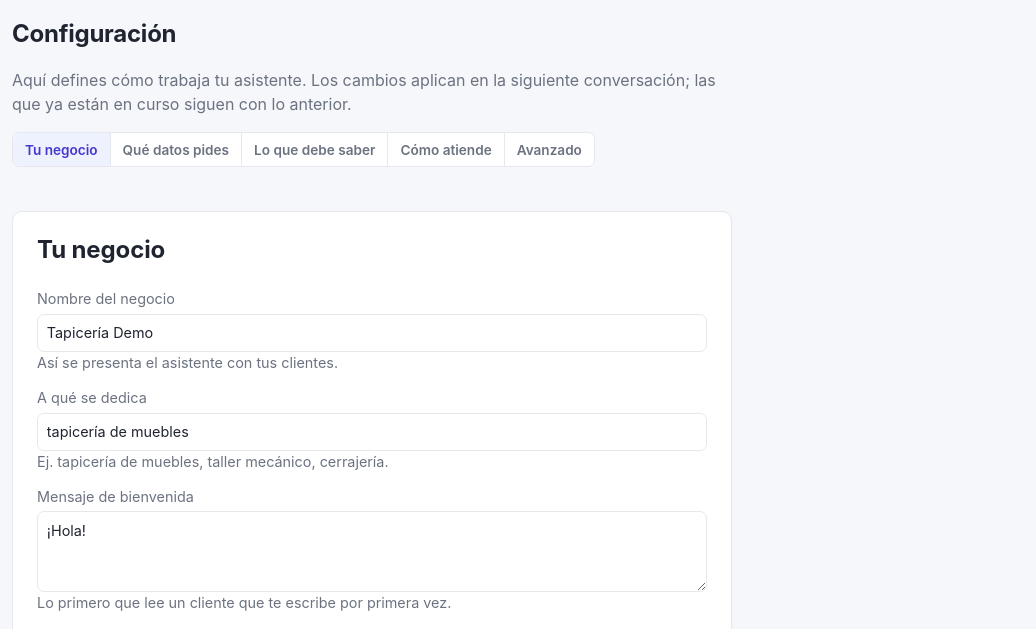
Scenario: el tono sí se edita en "Cómo atiende", no en Avanzado
The width and height of the screenshot is (1036, 629).
Expected: the field showing "Tapicería Demo" is shown, [37,314,707,352]
Step 1. Click the tab "Cómo atiende" → point(447, 150), box [388,133,505,166]
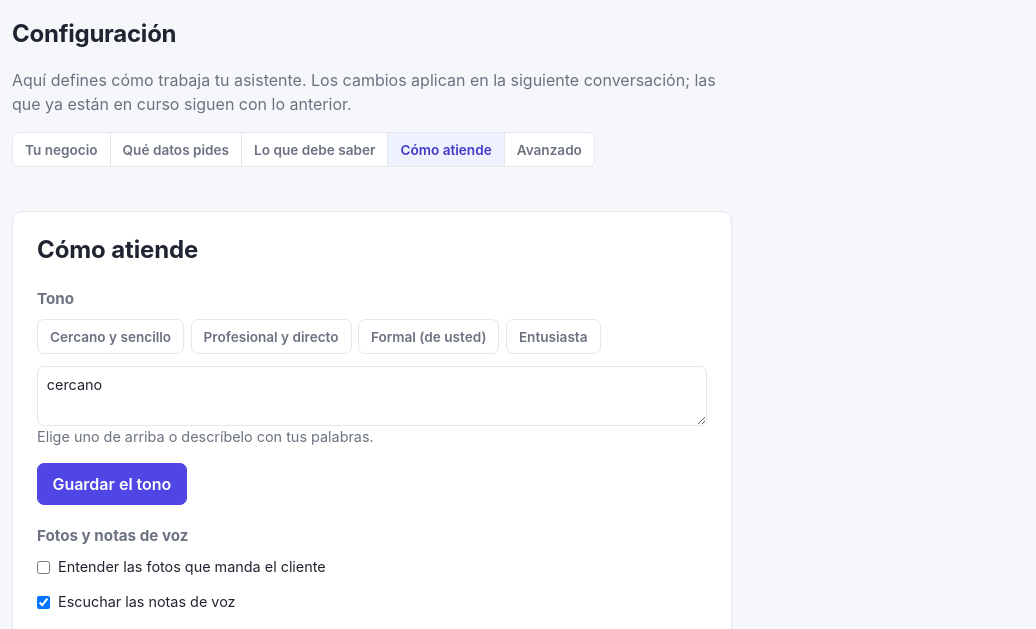
Result: the text box showing "cercano" is shown at [37,366,707,426]
Step 2. Click the tab "Avanzado" → point(549, 150), box [505,133,594,166]
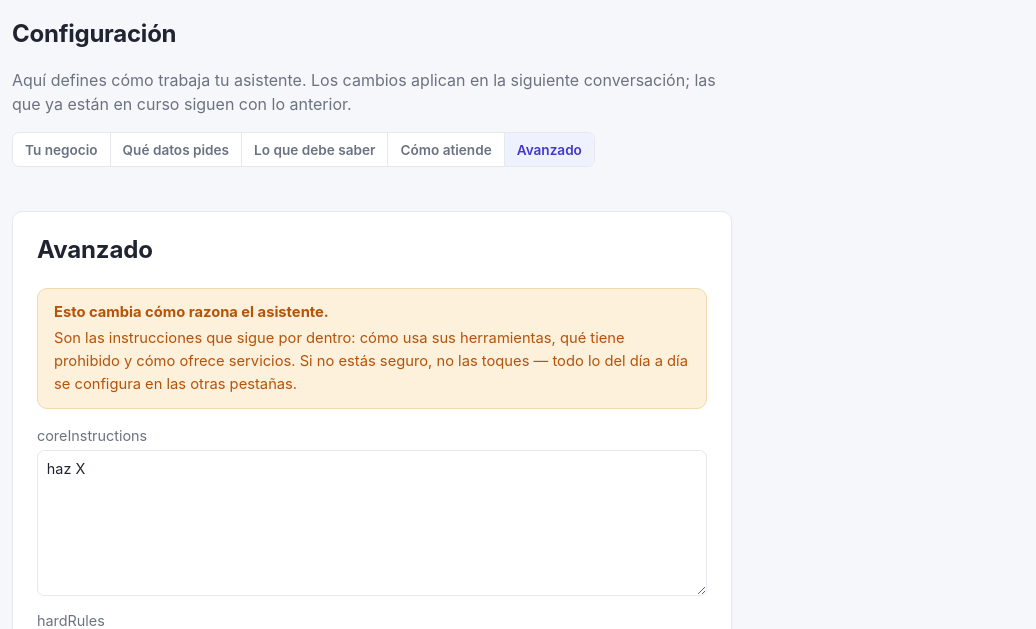
Result: the button showing "cercano" is gone
